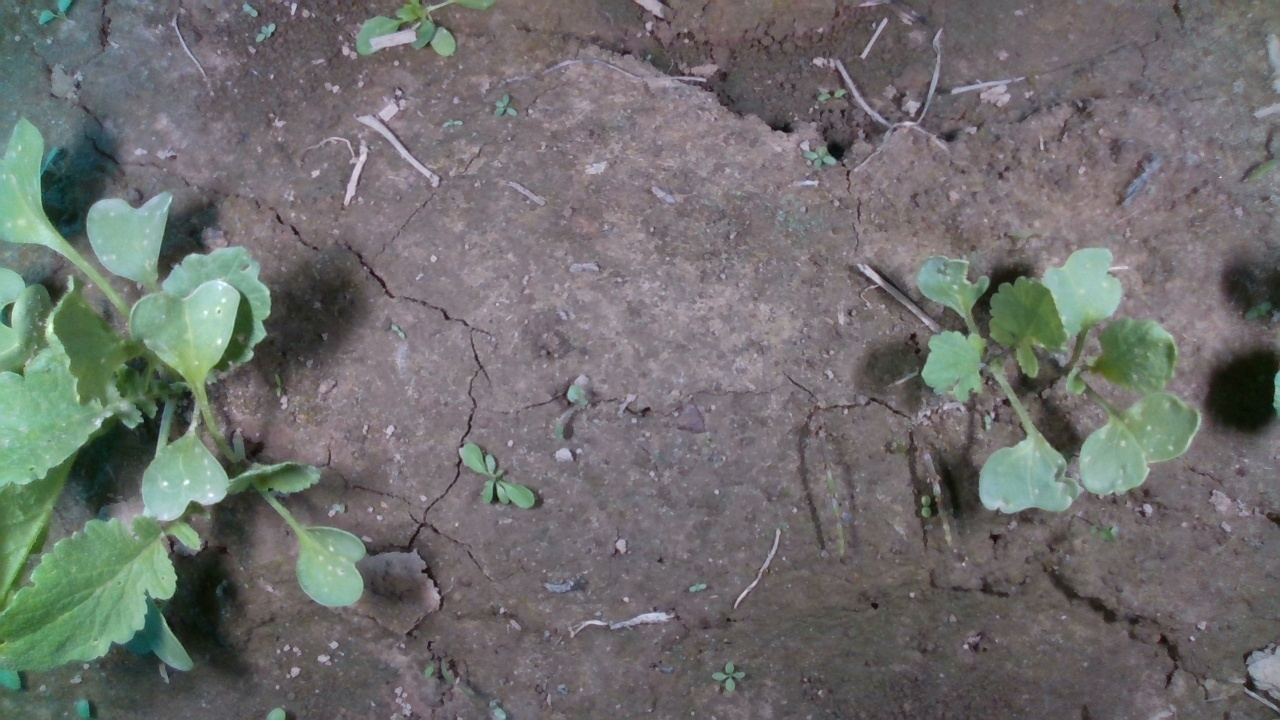weed: (709, 660, 746, 692), (803, 143, 837, 168), (492, 92, 518, 116), (815, 87, 848, 102), (254, 21, 276, 43), (390, 322, 407, 342), (272, 372, 284, 399), (920, 494, 932, 518), (241, 2, 259, 18)
